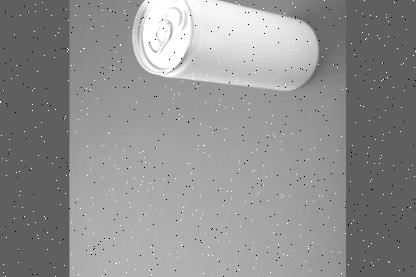Can: (130, 0, 320, 90)
